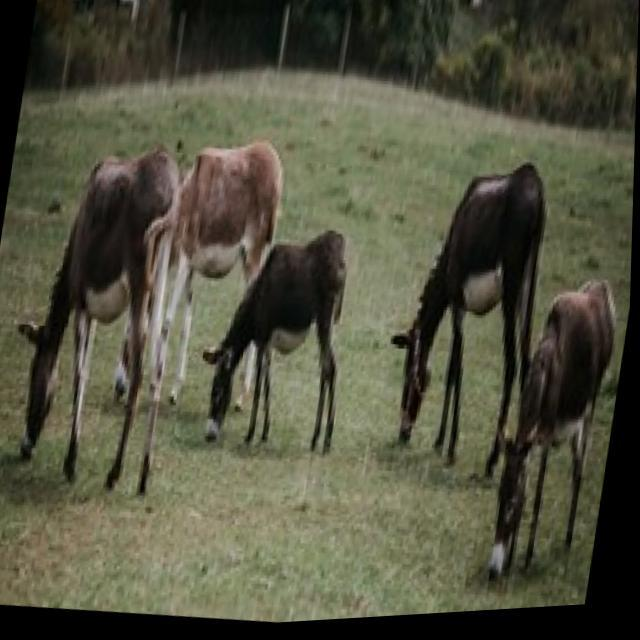Donkey: (0, 128, 202, 504), (370, 151, 562, 492), (109, 128, 291, 420), (483, 274, 624, 598), (188, 216, 364, 464)
